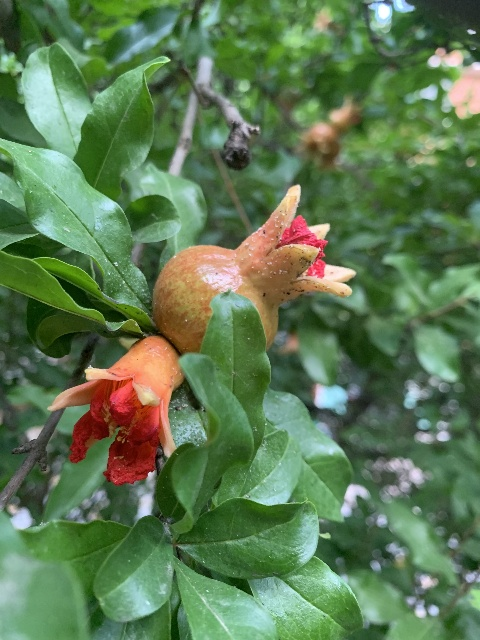early-fruit: (153, 182, 355, 355), (47, 335, 184, 484), (292, 122, 335, 163), (328, 95, 362, 134)
